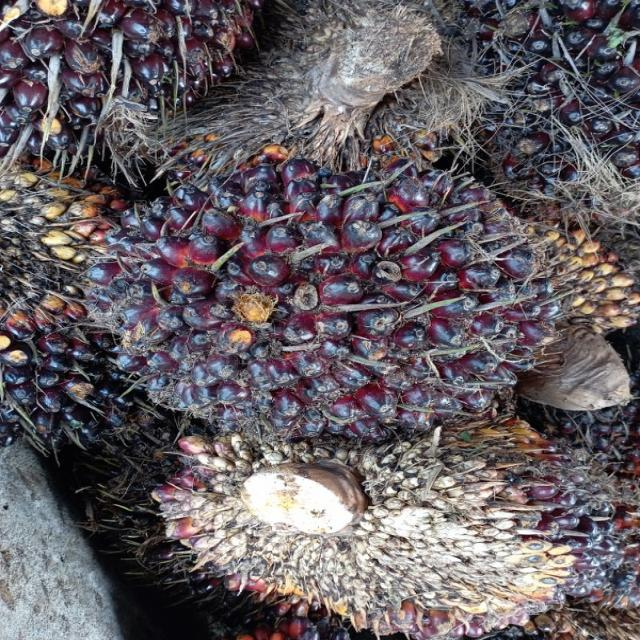fraksi 1: (68, 158, 578, 445)
